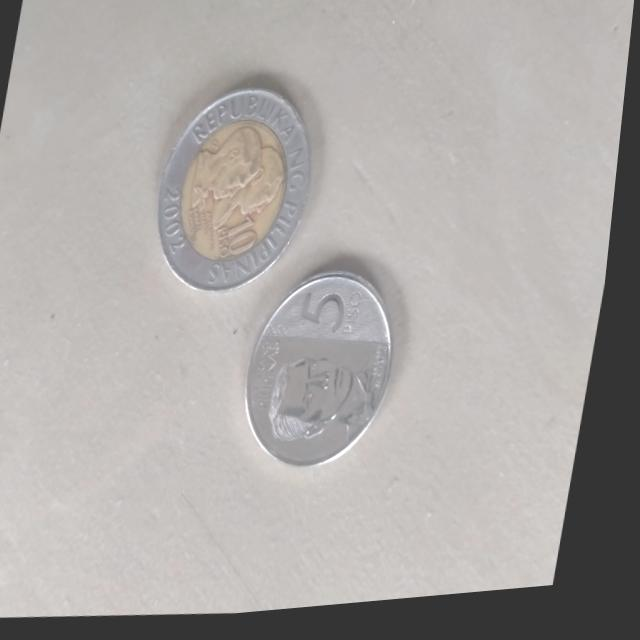10_Old_Front: (153, 85, 325, 301)
5_New_Front: (241, 271, 410, 482)
